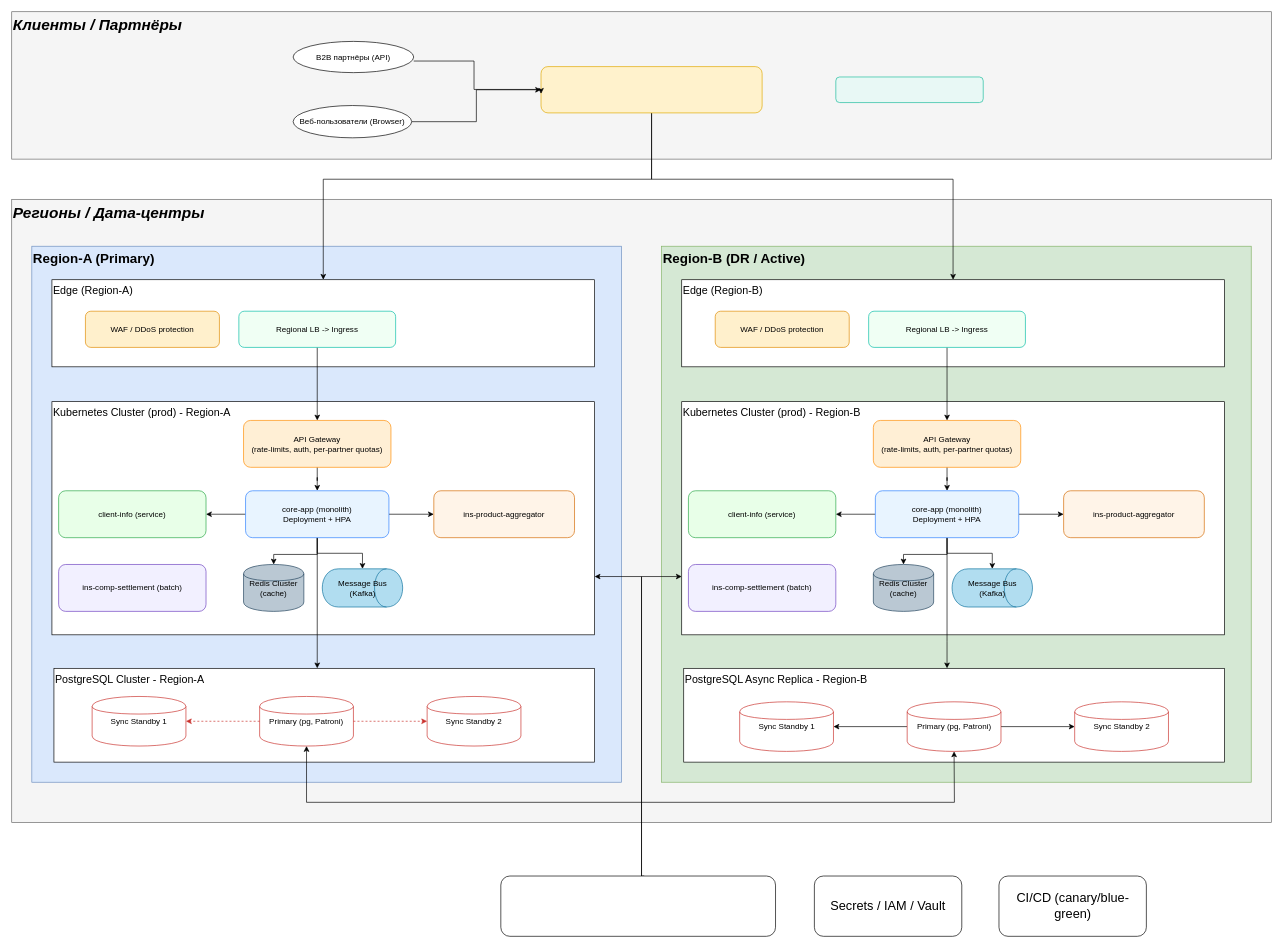
Some shapes in this 1283 by 948 pixel diagram are drawn without their labels. The shapes that lost their labels are listed below. From the top down, each one's centre as x and y in pixels, then its label:
At pixel 651 89: "Global Load Balancer (Anycast / GeoDNS + Health Checks)".
At pixel 909 89: "CDN (статика, assets)".
At pixel 638 905: "Monitoring & Logging Prometheus/Thanos, Grafana, ELK, Tracing (OTel/Jaeger)".
